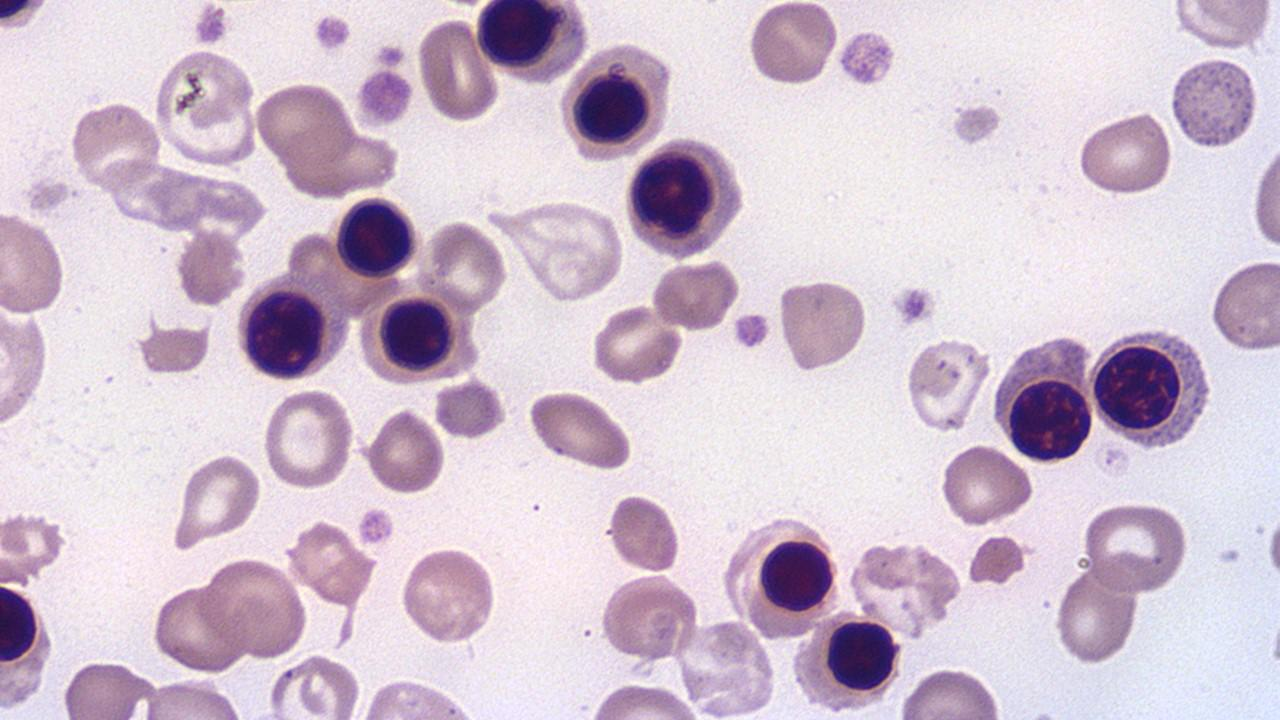Platelets: (744, 4, 842, 90), (834, 31, 898, 92), (354, 66, 414, 130), (948, 101, 1002, 148), (888, 281, 936, 330), (732, 308, 774, 354), (310, 10, 353, 54), (192, 2, 231, 47), (372, 41, 409, 70)
RBC: (557, 36, 678, 164), (152, 43, 259, 164), (508, 196, 628, 303), (622, 140, 730, 252), (846, 538, 961, 642), (202, 556, 309, 660), (1080, 496, 1190, 595), (258, 386, 357, 492), (398, 544, 500, 646), (168, 450, 263, 554), (1167, 52, 1261, 152), (596, 573, 700, 663), (1051, 564, 1141, 668), (1074, 107, 1176, 198), (415, 217, 510, 314), (417, 15, 500, 125), (238, 284, 330, 383), (524, 389, 635, 471), (779, 276, 869, 376), (252, 79, 360, 162), (67, 100, 163, 192), (150, 583, 248, 673), (746, 0, 840, 91), (938, 440, 1035, 528), (902, 336, 990, 432), (588, 302, 685, 384), (1006, 376, 1094, 463), (1, 570, 54, 712), (366, 404, 447, 496), (0, 208, 68, 316), (332, 194, 414, 282), (1209, 254, 1279, 356), (0, 298, 52, 433), (651, 259, 739, 334), (604, 490, 684, 572), (376, 292, 454, 376), (758, 534, 835, 615), (474, 0, 561, 71), (894, 664, 1008, 718), (824, 614, 899, 696), (58, 656, 151, 718), (175, 228, 245, 308), (1169, 1, 1273, 51), (361, 677, 480, 719), (292, 650, 364, 717), (431, 377, 506, 440), (586, 680, 706, 719), (136, 320, 212, 377), (1248, 131, 1280, 257), (964, 532, 1031, 586), (1265, 494, 1279, 598)
WBC: (0, 33, 610, 720), (1087, 318, 1219, 456), (622, 135, 750, 262), (560, 41, 677, 161), (1168, 52, 1264, 151), (1006, 376, 1093, 464), (0, 296, 52, 436)
